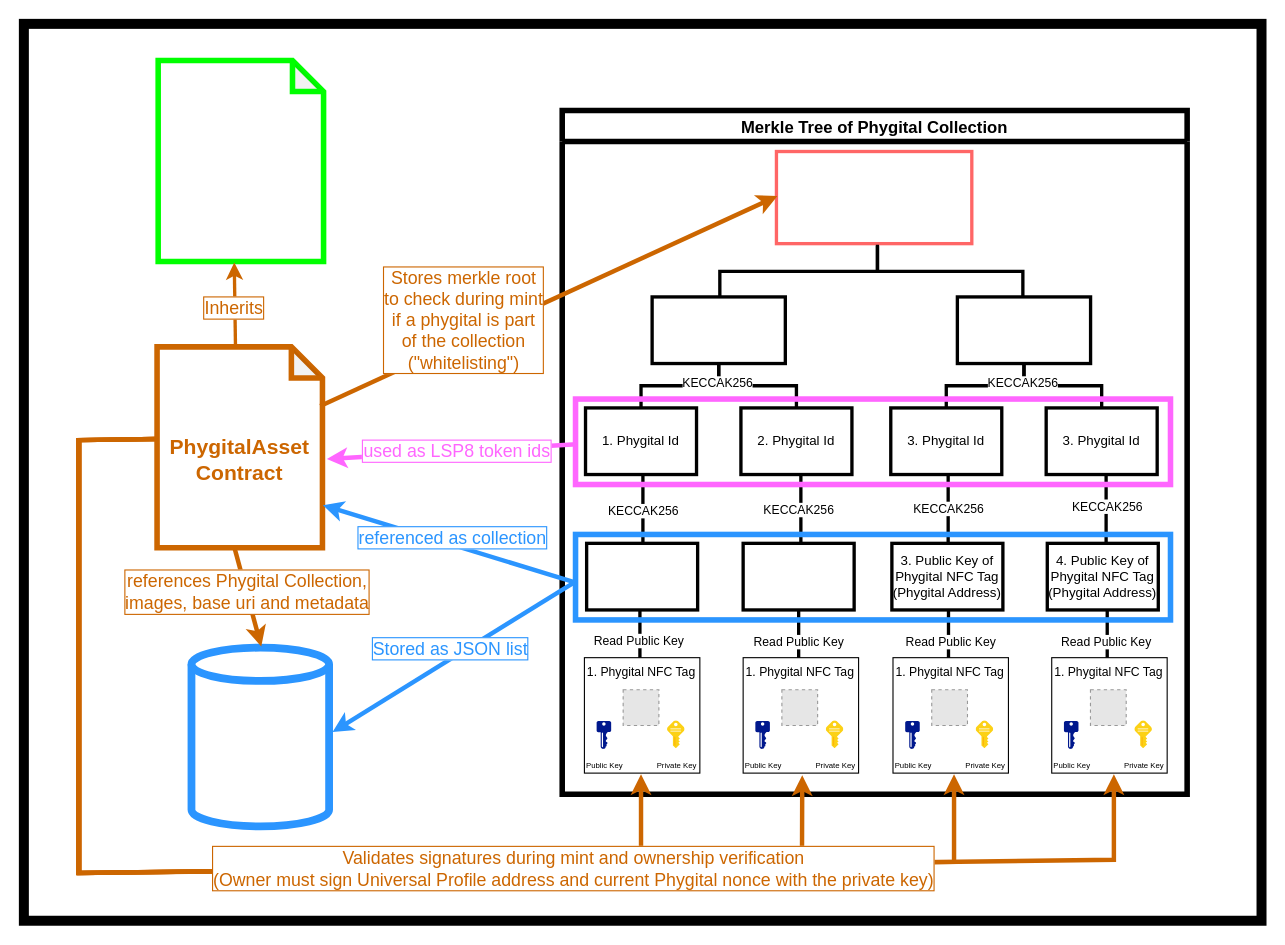
Some shapes in this 1285 by 945 pixel diagram are drawn without their labels. Grey dashed boxes stand in for pictures. The centre of each missing label's shape, as x and y in pixels:
"1. Public Key of Phygital NFC Tag (Phygital Address)" belongs at point (641, 576).
"2. Public Key of Phygital NFC Tag (Phygital Address)" belongs at point (798, 576).
"Hash(1,2)" belongs at point (718, 330).
"Hash(3,4)" belongs at point (1023, 330).
"IPFS" belongs at point (259, 736).
"LSP8 Enumerable" belongs at point (240, 160).
"Merkle Root of Phygital Collection Hash(Hash(1,2), Hash(3,4))" belongs at point (873, 197).
